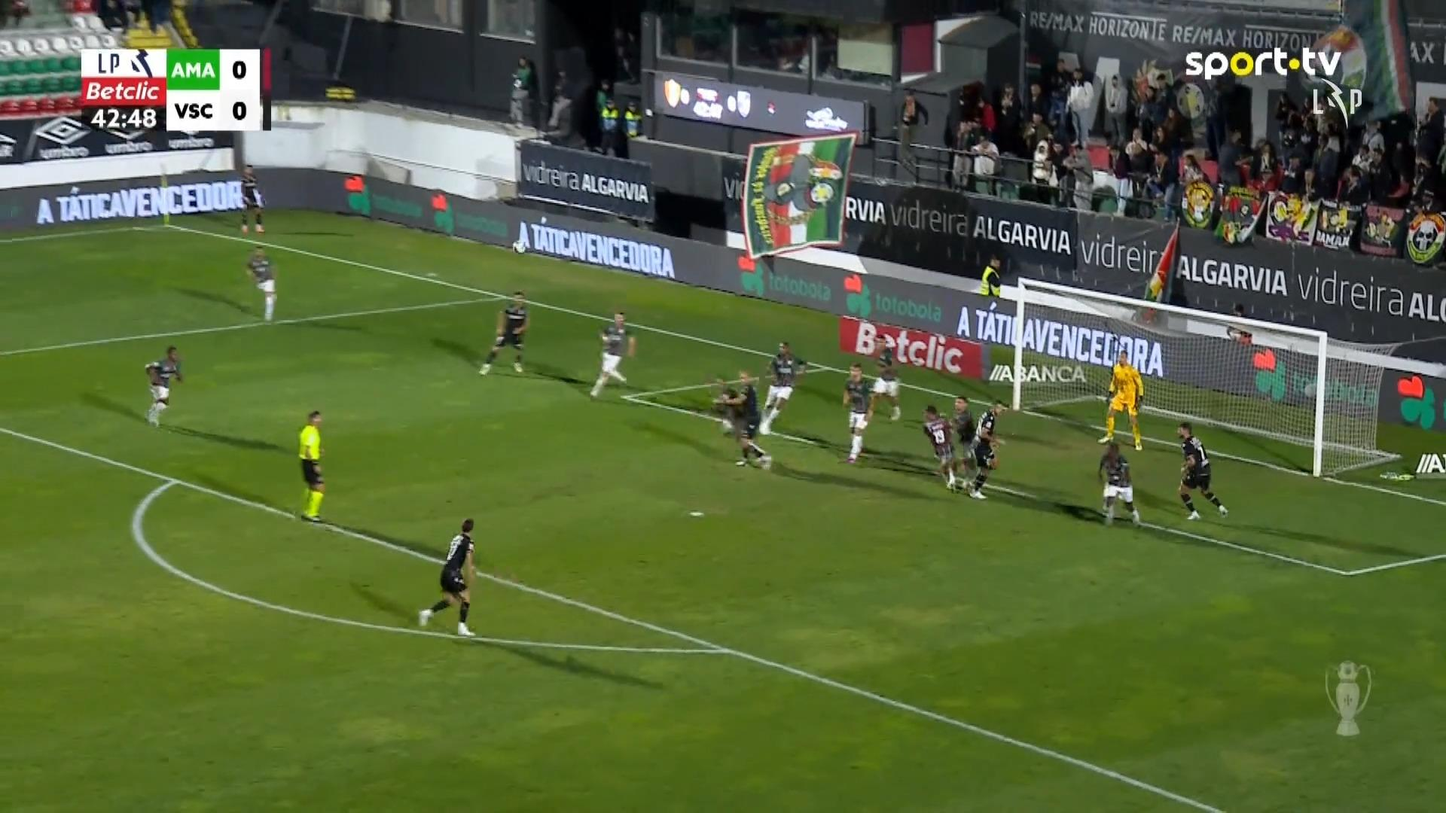goalkeeper: (1097, 349, 1145, 450)
player: (417, 517, 477, 636), (715, 370, 772, 469), (1175, 421, 1228, 520), (758, 340, 807, 435), (477, 290, 529, 376), (588, 311, 636, 399), (967, 399, 1008, 499), (1097, 440, 1141, 527), (840, 362, 874, 463), (144, 344, 183, 428), (921, 403, 958, 491), (865, 336, 902, 421), (950, 394, 978, 489), (245, 245, 276, 321), (238, 163, 265, 233), (712, 376, 740, 435)
referee: (297, 410, 326, 521)
